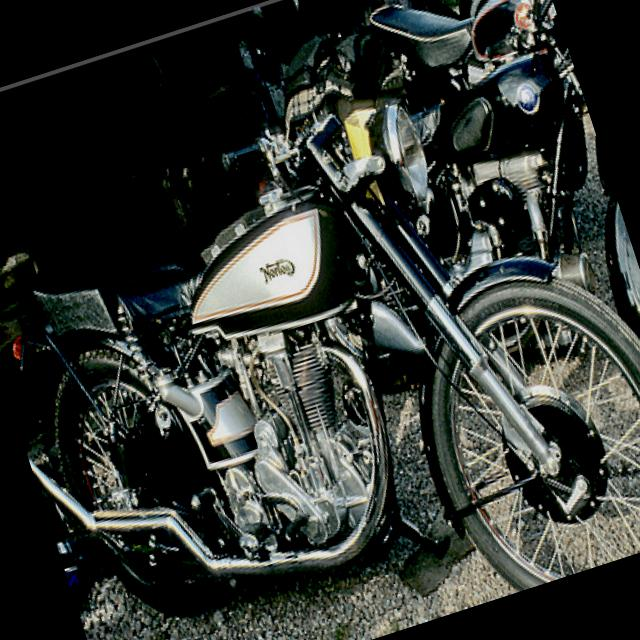Vehicle: (0, 0, 640, 640), (335, 0, 640, 480)
